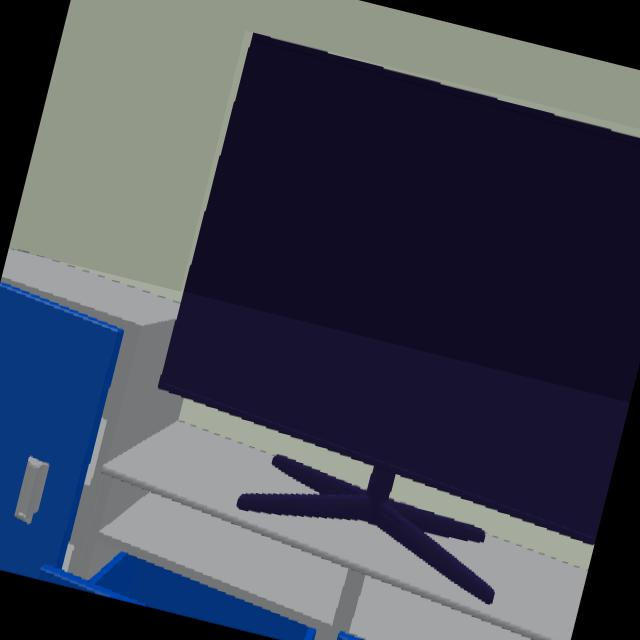cabinet: (0, 250, 586, 640)
monitor: (158, 34, 640, 605)
